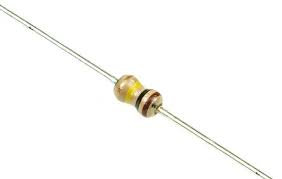resistor: (94, 60, 176, 123)
